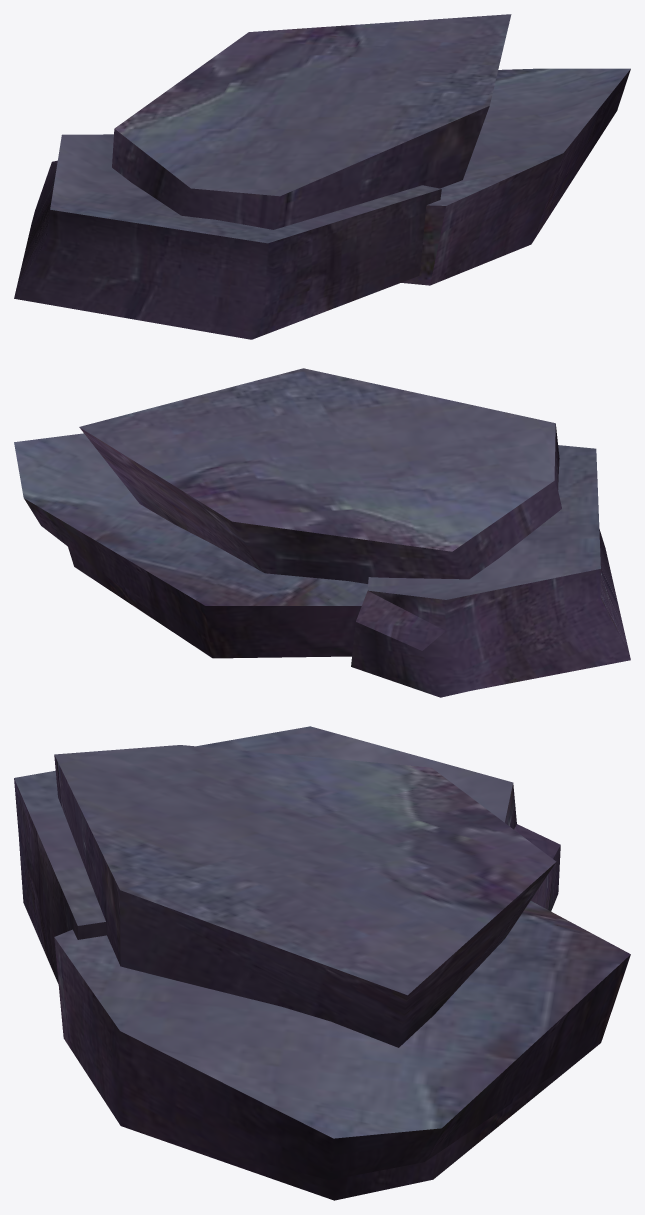
Rendered from yw_huanghunzhihu_shitou02.FBX.
3 renders of one model, top to bottom at view 1: azimuth 30°, elevation 25°; view 2: azimuth 150°, elevation 25°; view 3: azimuth 270°, elevation 25°, orthographic. The views are drawn at different scales.
Visible parts, largest first — view 1: yw_huanghunzhihu_shitou02; view 2: yw_huanghunzhihu_shitou02; view 3: yw_huanghunzhihu_shitou02.
Part boxes in pixels (box(x1,y1,x2,y2)): yw_huanghunzhihu_shitou02: box(14, 14, 630, 339); yw_huanghunzhihu_shitou02: box(14, 368, 630, 697); yw_huanghunzhihu_shitou02: box(14, 726, 630, 1200).
Size of the model in its own units: 608 by 139 by 375.
